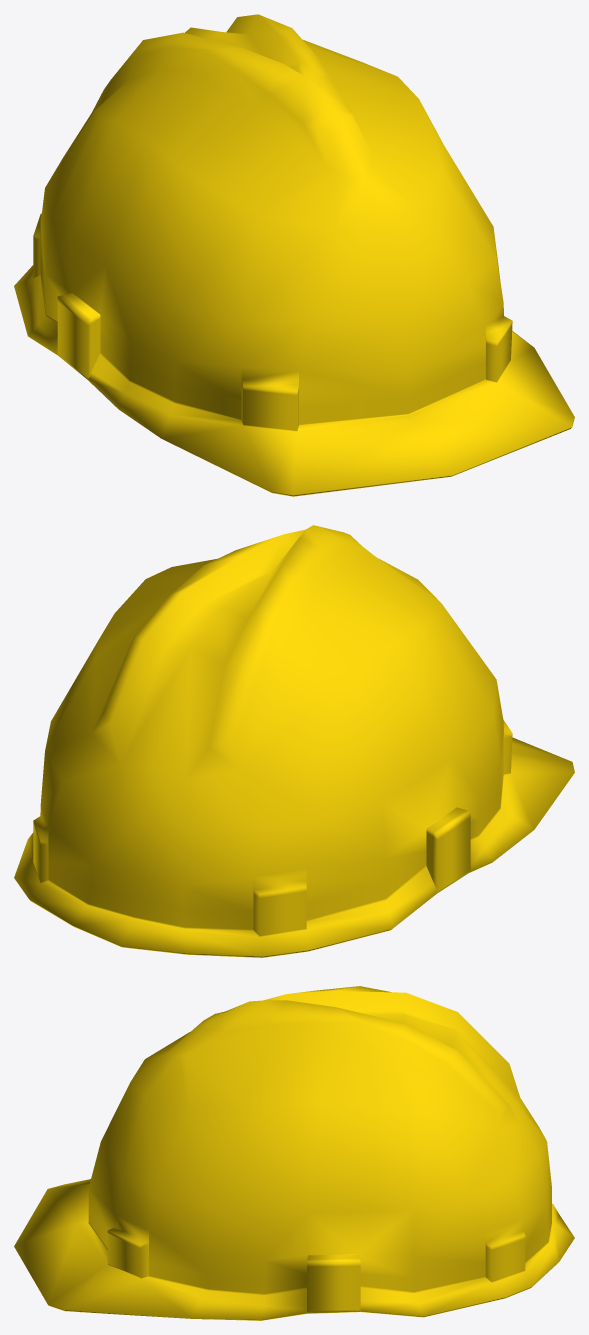
Rendered from hardhat.glb.
The picture shows the model from 3 angles, top to bottom: view 1: azimuth 30°, elevation 25°; view 2: azimuth 150°, elevation 25°; view 3: azimuth 270°, elevation 25°; orthographic projection. The views are drawn at different scales.
Parts seen in each view (by area): view 1: hardhat; view 2: hardhat; view 3: hardhat.
Boxes of the visible parts, x1=… form: hardhat: x1=14, y1=14, x2=574, y2=496; hardhat: x1=14, y1=525, x2=574, y2=957; hardhat: x1=14, y1=986, x2=574, y2=1320.
Bounding box in the file's own units: 16.38 × 12.2 × 24.62.
Materials: 1 (1 with a texture image).
